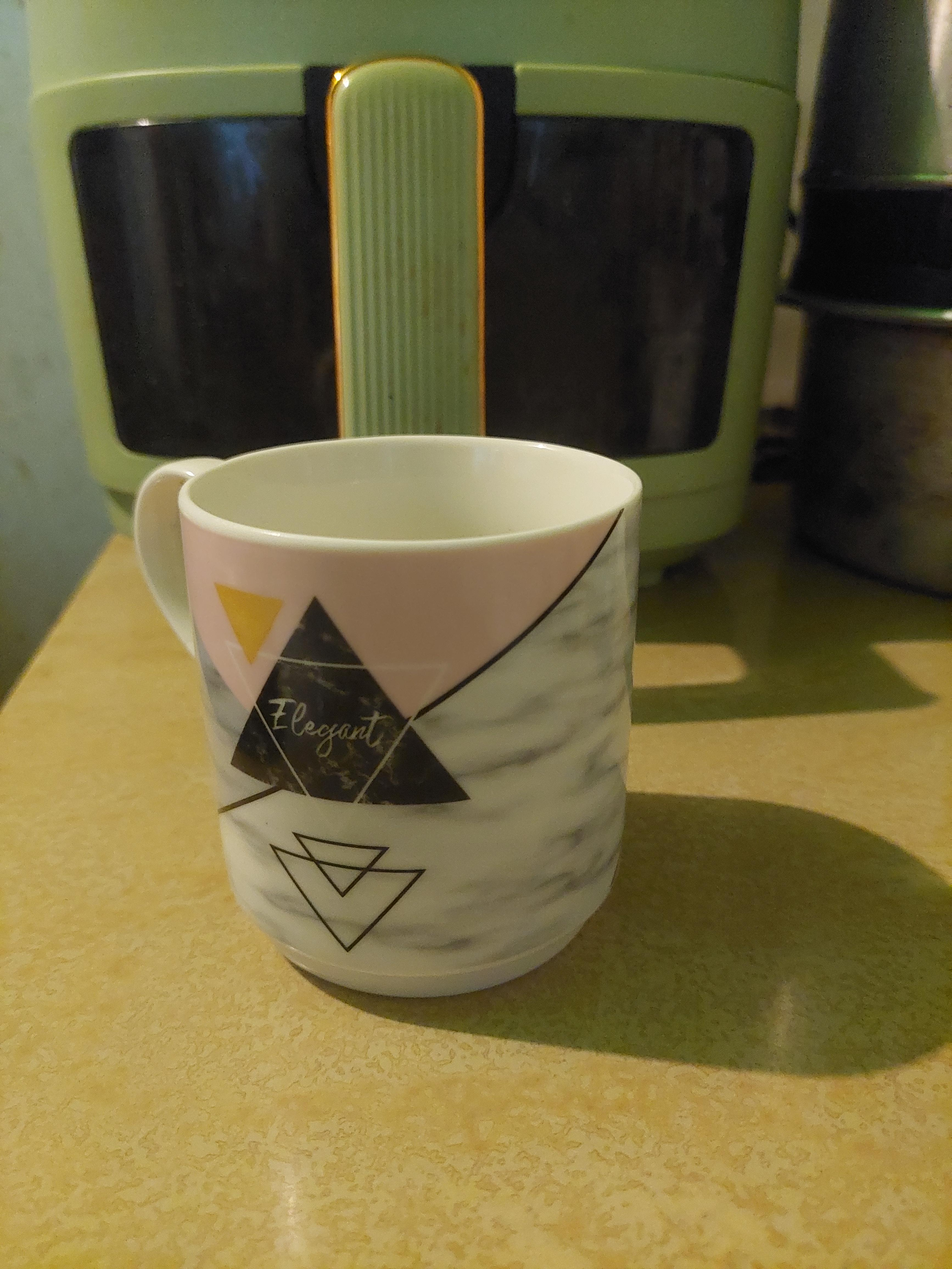mug: (132, 434, 643, 999)
